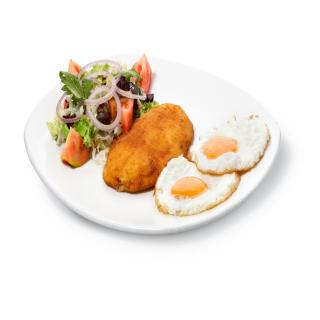Egg: (154, 152, 240, 214), (187, 112, 271, 174)
